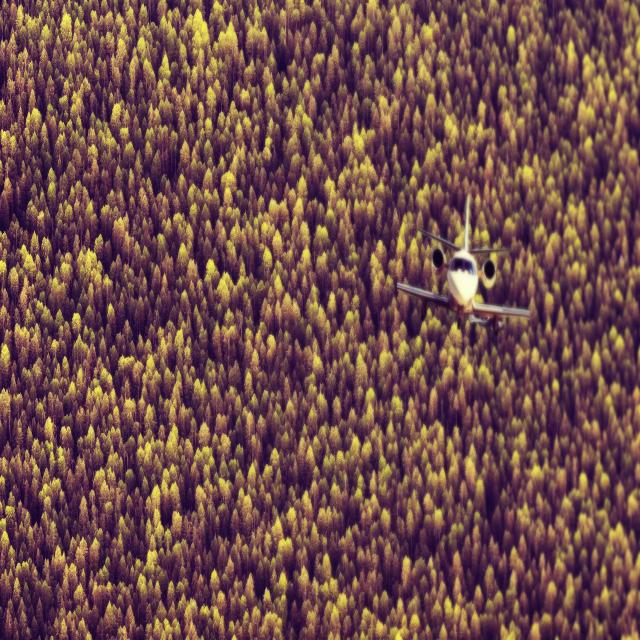airplane: (395, 194, 531, 338)
